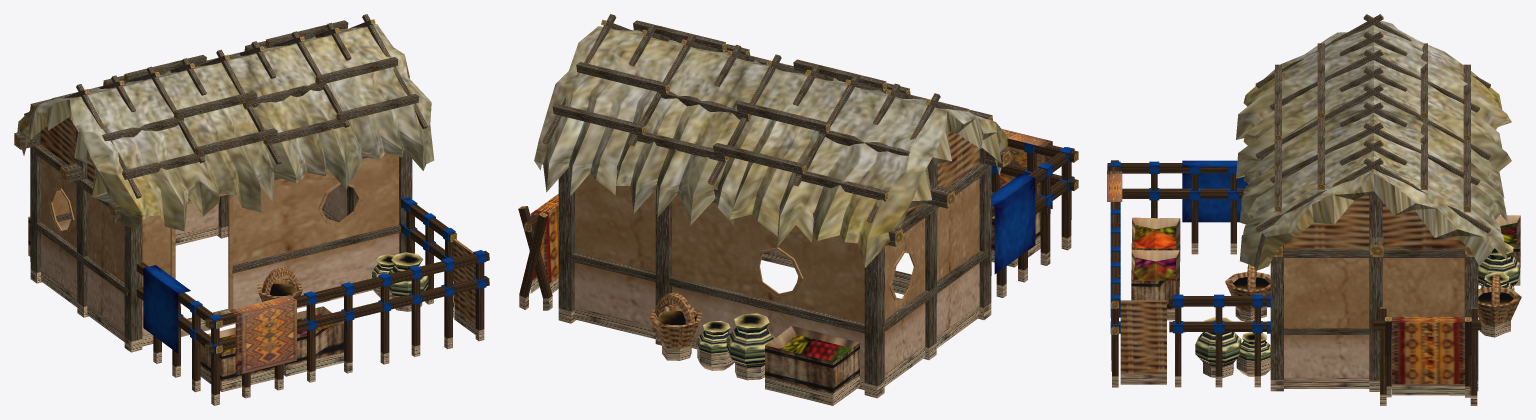
Rendered from house_3.dae.
3 views of the same model, side by side, from view 1: azimuth 30°, elevation 25°; view 2: azimuth 150°, elevation 25°; view 3: azimuth 270°, elevation 25° (orthographic). The views are drawn at different scales.
Visible parts, largest first — view 1: house_3; view 2: house_3; view 3: house_3.
Boxes of the visible parts, x1,y1,x2,y2 form: house_3: (14, 14, 489, 405); house_3: (518, 14, 1078, 405); house_3: (1107, 14, 1521, 405).
Size of the model in its own units: 13.28 by 13.44 by 8.45.
